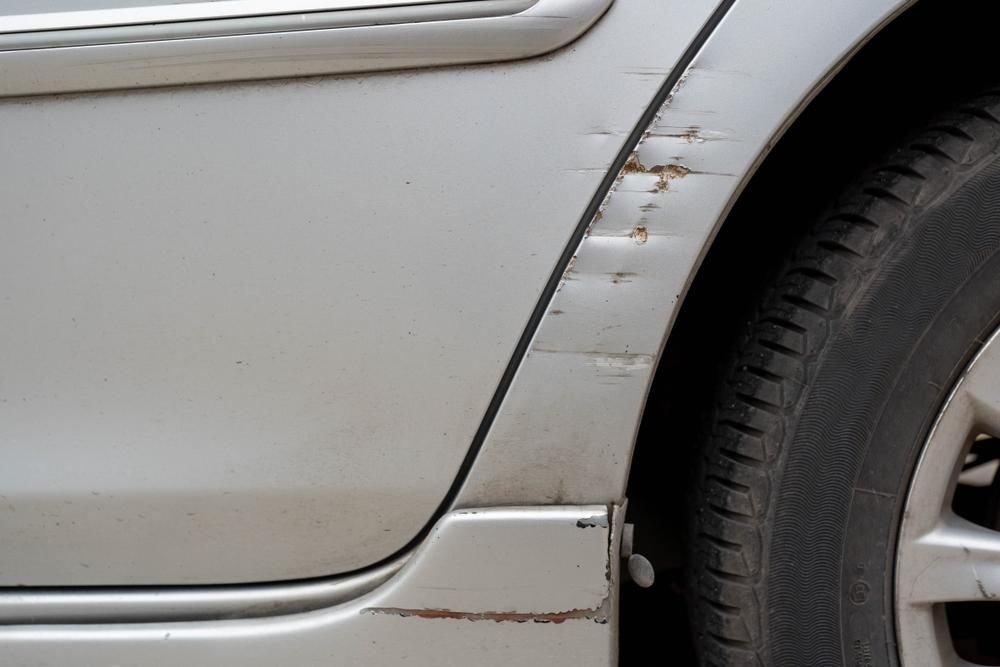crack: (360, 502, 618, 631)
scratch: (521, 61, 744, 382), (561, 62, 679, 177)
